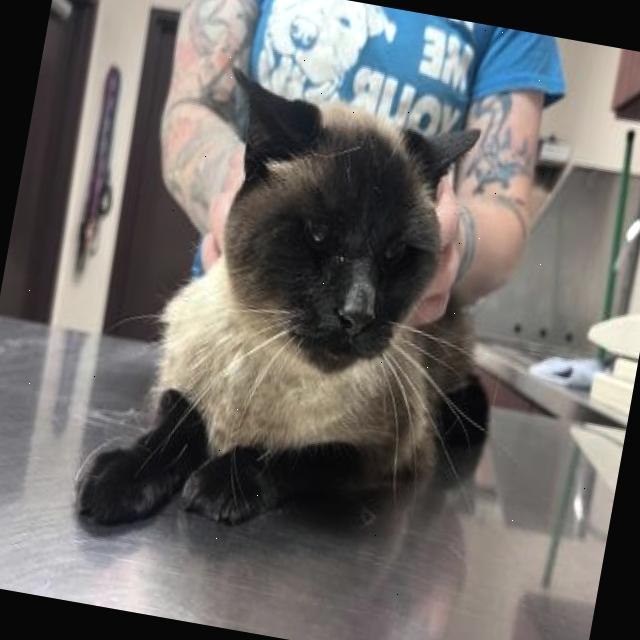siamese_cat: (164, 63, 491, 427)
